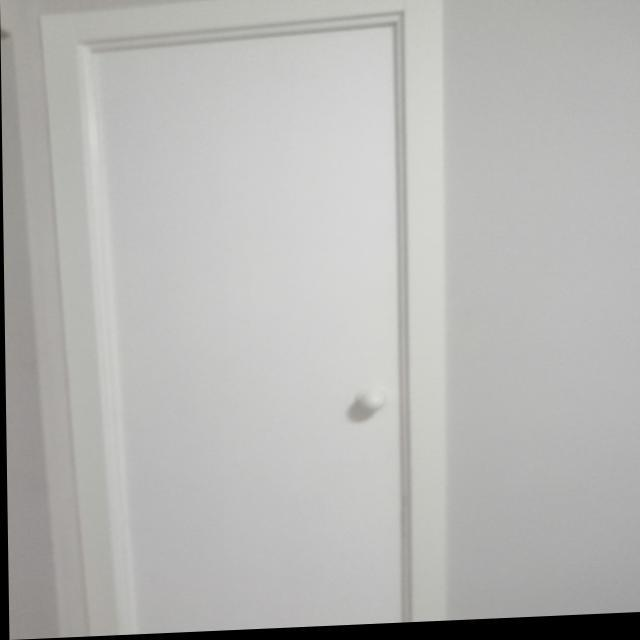door_handle: (349, 389, 389, 427)
